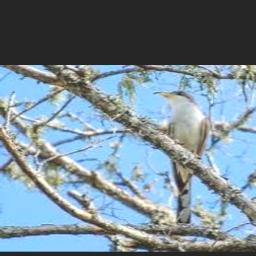Cuckoo: (155, 90, 210, 228)
